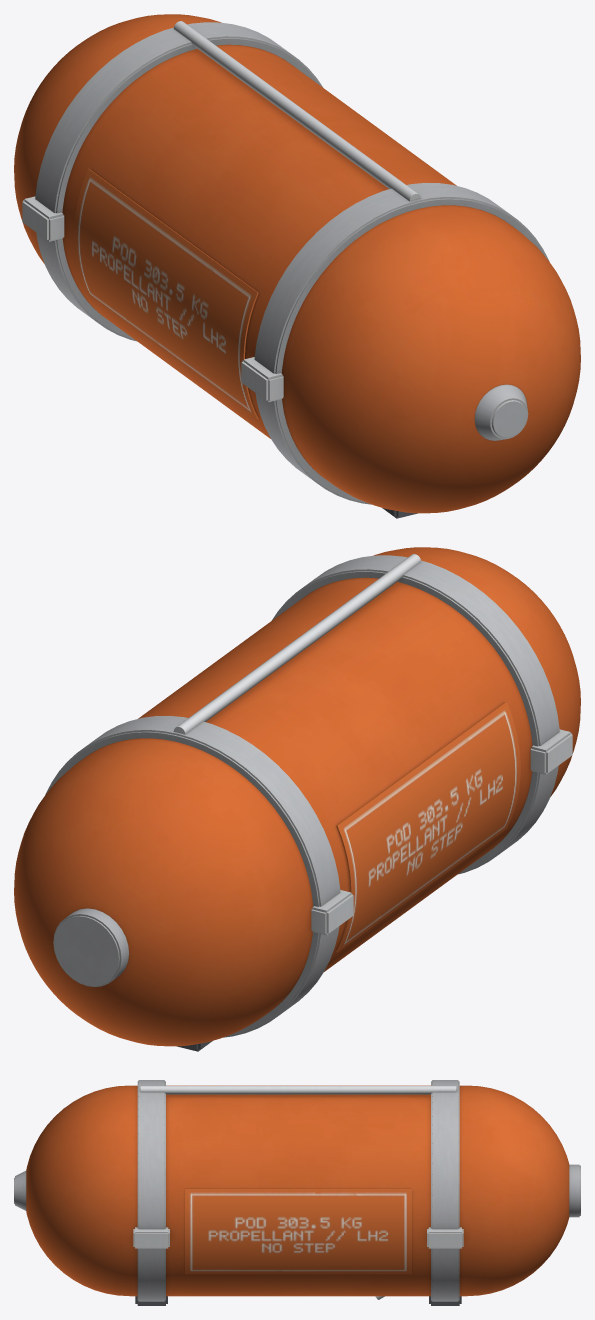
Rendered from att_drop_tank.glb.
3 views of the same model, one above another, from view 1: azimuth 30°, elevation 25°; view 2: azimuth 150°, elevation 25°; view 3: azimuth 270°, elevation 25° (orthographic). The views are drawn at different scales.
Visible parts, largest first — view 1: TEX_DropTank_Mesh; view 2: TEX_DropTank_Mesh; view 3: TEX_DropTank_Mesh.
Part boxes in pixels (<box>): TEX_DropTank_Mesh: <box>14,14,580,518</box>; TEX_DropTank_Mesh: <box>14,547,580,1051</box>; TEX_DropTank_Mesh: <box>14,1080,580,1305</box>.
Size of the model in its own units: 1.17 by 1.16 by 2.8.
Materials: 1 (1 with a texture image).
